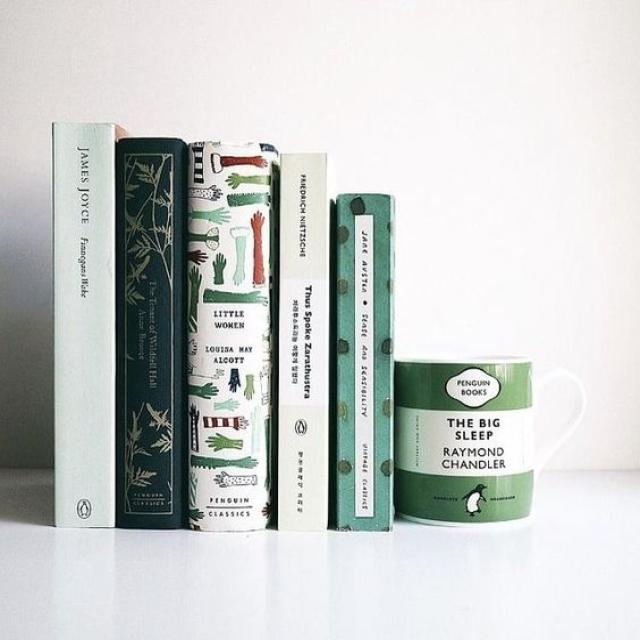book: (187, 143, 276, 531), (116, 138, 187, 528), (53, 122, 115, 527), (329, 193, 393, 531), (277, 155, 329, 531)
